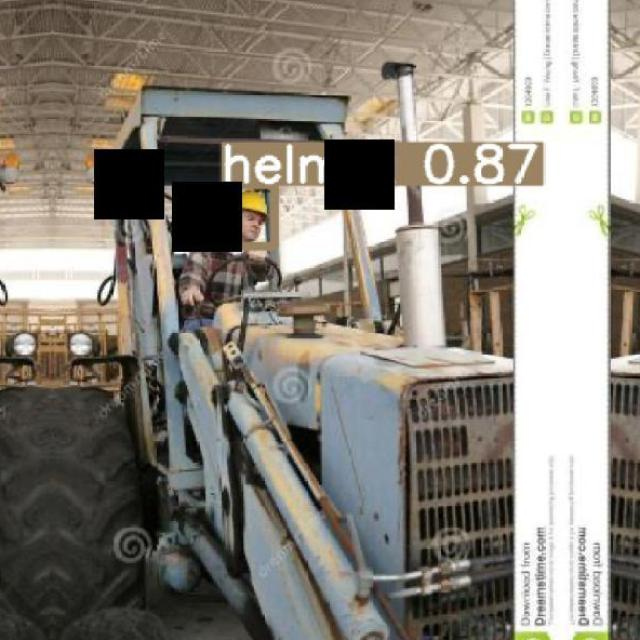helmet: (241, 190, 267, 215), (10, 332, 36, 356), (69, 332, 92, 356)
